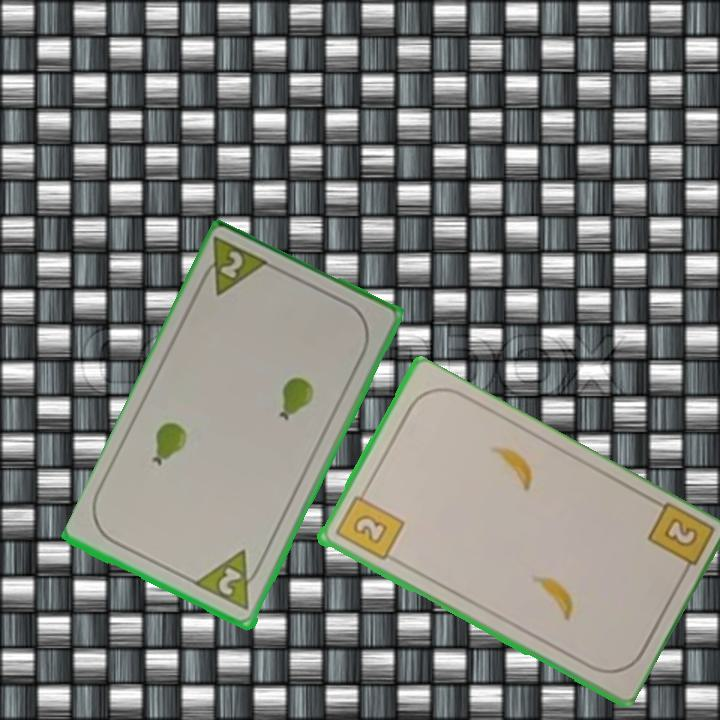2b: (331, 485, 406, 564), (643, 499, 713, 583)
2p: (194, 234, 274, 300), (193, 547, 267, 614)
